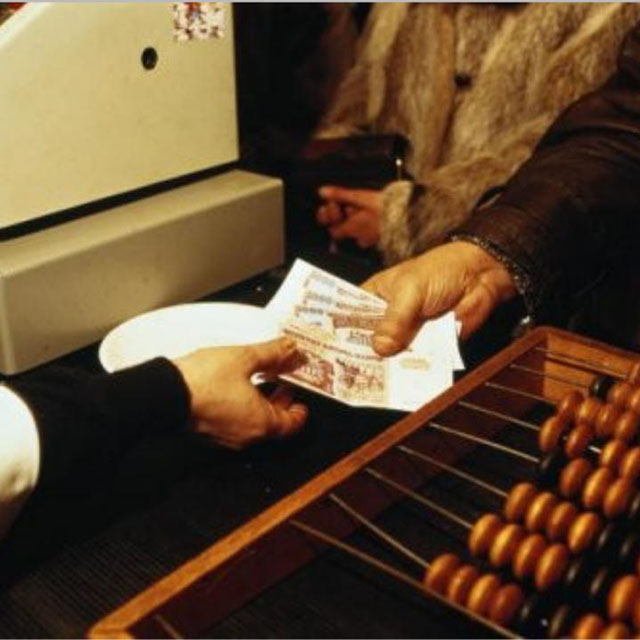banknotes: (274, 271, 459, 410)
